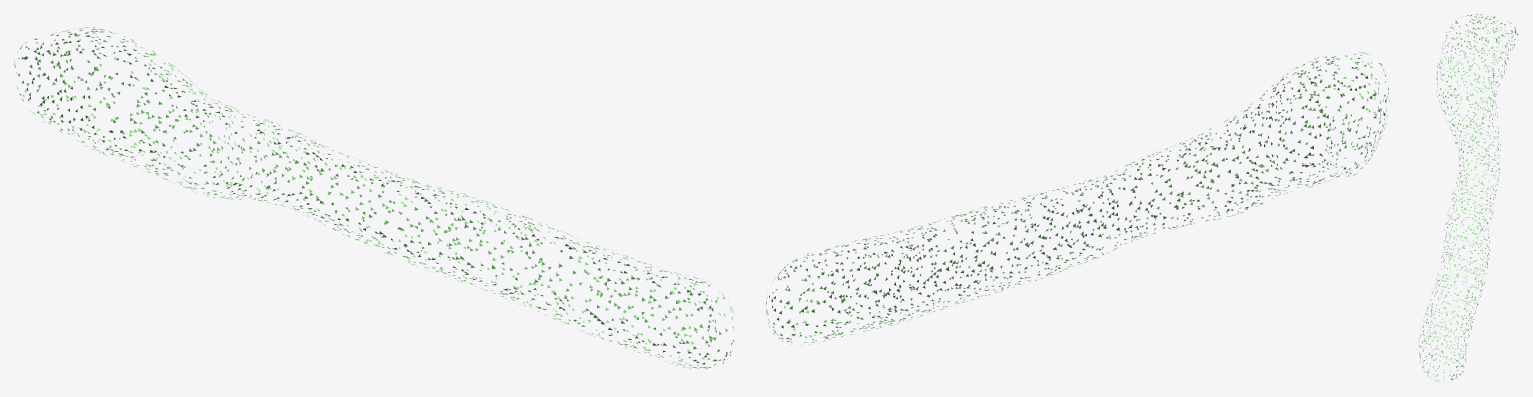
File: morph_016.glb
3 renders of one model, left to right at view 1: azimuth 30°, elevation 25°; view 2: azimuth 150°, elevation 25°; view 3: azimuth 270°, elevation 25°, orthographic. The views are drawn at different scales.
Size of the model in its own units: 128 by 85.21 by 34.62.
